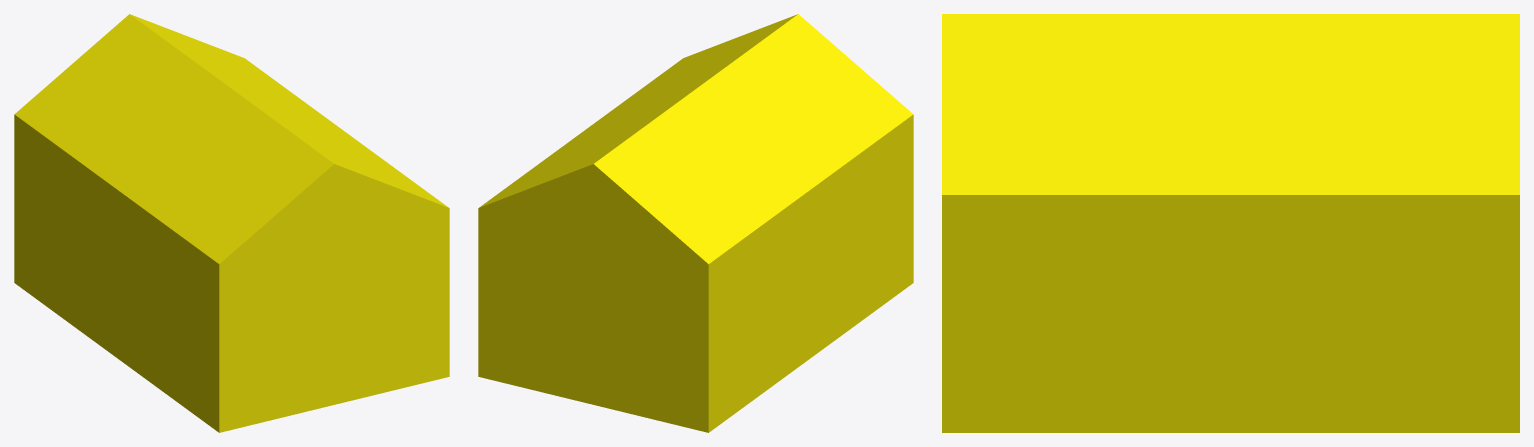
File: Settlement_Yellow.fbx
3 views of the same model, side by side, from view 1: azimuth 30°, elevation 25°; view 2: azimuth 150°, elevation 25°; view 3: azimuth 270°, elevation 25° (orthographic). The views are drawn at different scales.
Parts seen in each view (by area): view 1: node_id5; view 2: node_id5; view 3: node_id5.
Part boxes in pixels (<box>): node_id5: <box>14,14,449,432</box>; node_id5: <box>478,14,913,432</box>; node_id5: <box>942,14,1519,432</box>.
Size of the model in its own units: 0.113 by 0.113 by 0.1741.
1 material, 1 textured.
